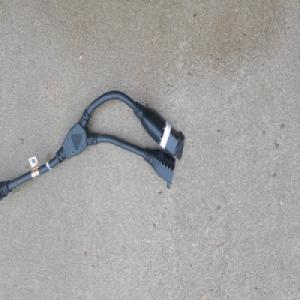Wire: (0, 90, 185, 203)
